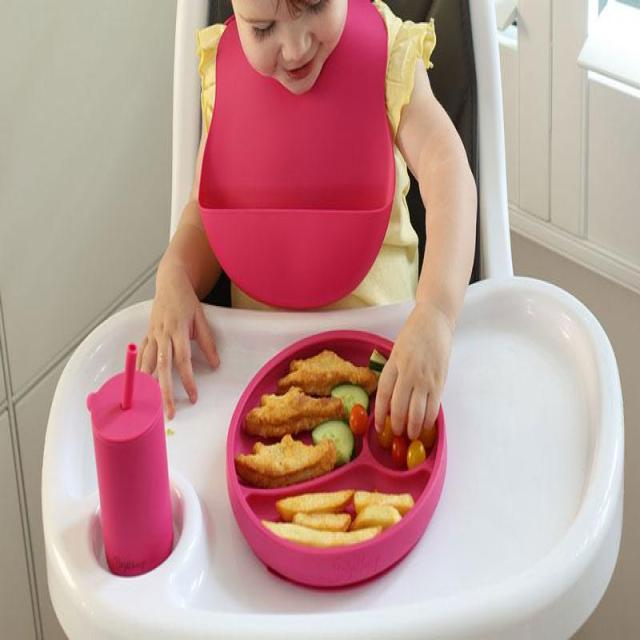child: (137, 4, 482, 449)
